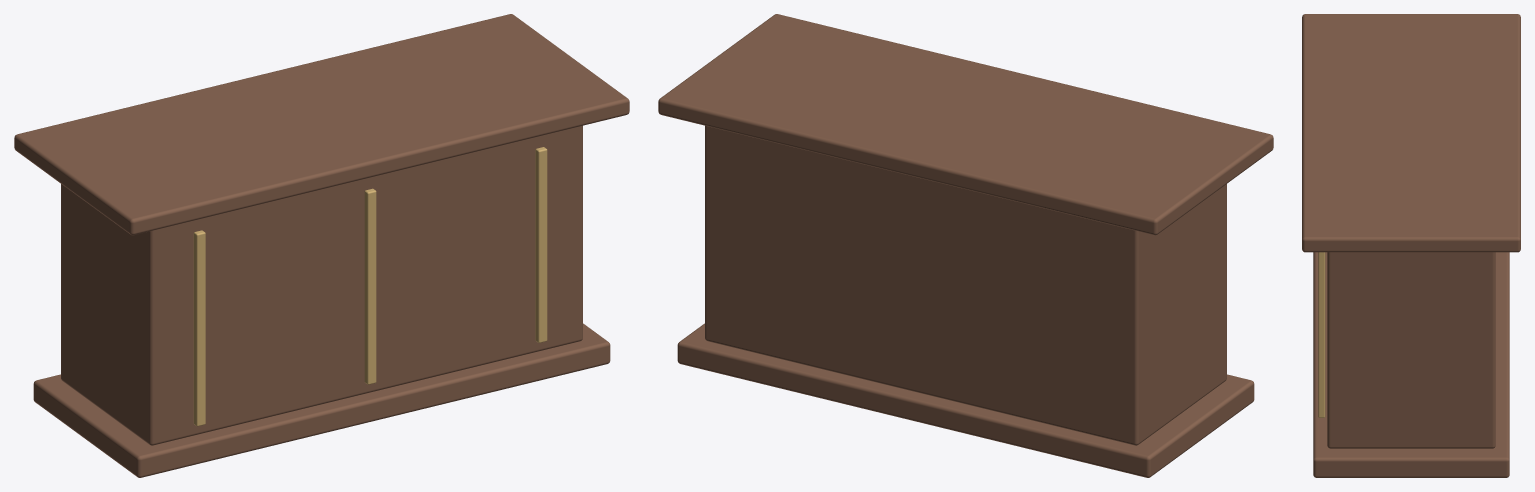
Rendered from griffin-airmail-roost-and-posthouse-dispatch-counter-0a4373d5__30515.glb.
The picture shows the model from 3 angles, left to right: view 1: azimuth 30°, elevation 25°; view 2: azimuth 150°, elevation 25°; view 3: azimuth 270°, elevation 25°; orthographic projection. The views are drawn at different scales.
Visible parts, largest first — view 1: dispatch-counter; view 2: dispatch-counter; view 3: dispatch-counter.
Boxes of the visible parts, bbox=[...] form: dispatch-counter: bbox=[14, 14, 629, 477]; dispatch-counter: bbox=[658, 14, 1273, 477]; dispatch-counter: bbox=[1302, 14, 1520, 477].
Size of the model in its own units: 1.9 by 0.9701 by 0.7801.
